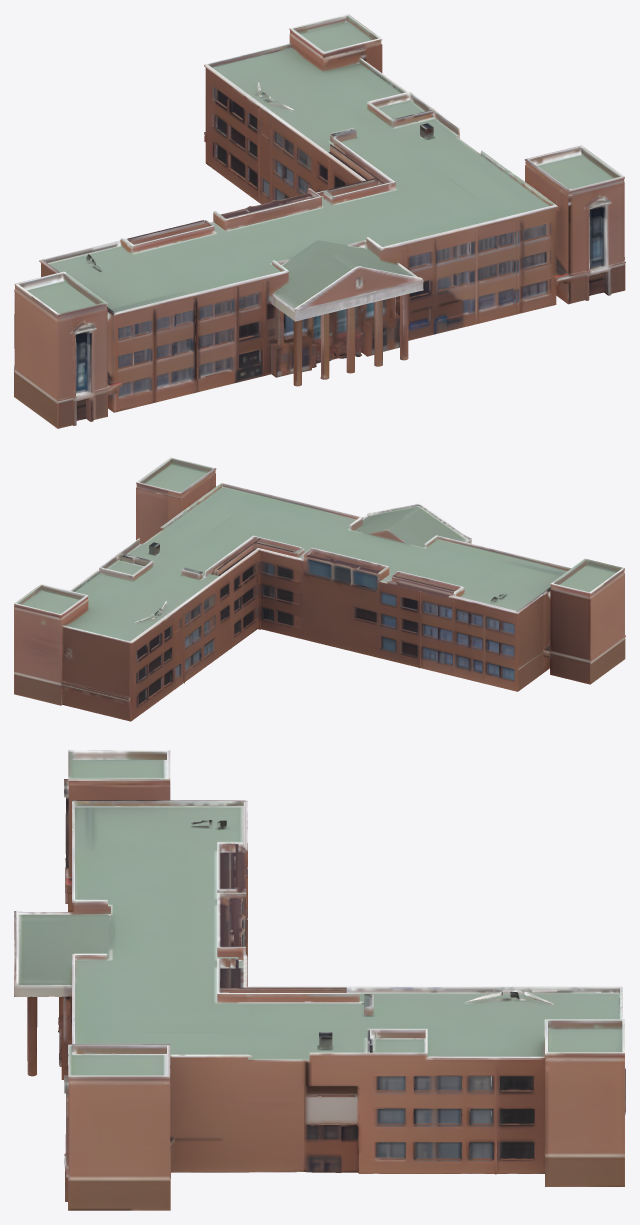
Rendered from base_basic_shaded.fbx.
The picture shows the model from 3 angles, top to bottom: view 1: azimuth 30°, elevation 25°; view 2: azimuth 150°, elevation 25°; view 3: azimuth 270°, elevation 25°; orthographic projection. The views are drawn at different scales.
Parts seen in each view (by area): view 1: model; view 2: model; view 3: model.
Part boxes in pixels (<box>): model: <box>14,14,625,428</box>; model: <box>14,457,625,721</box>; model: <box>14,750,625,1210</box>.
Size of the model in its own units: 173 by 33.19 by 137.
